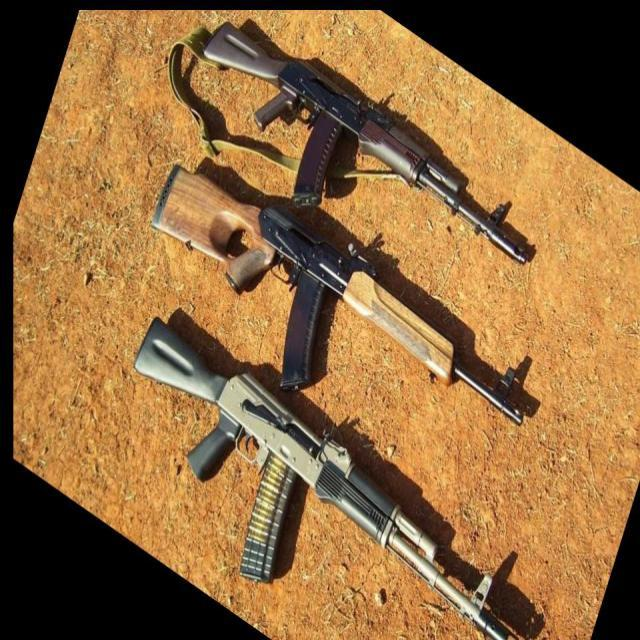weapon: (133, 314, 514, 640), (149, 162, 526, 426), (201, 18, 531, 266)
